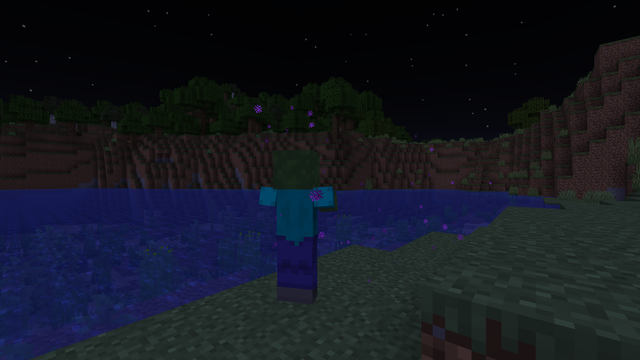zombies: (266, 152, 328, 313)
